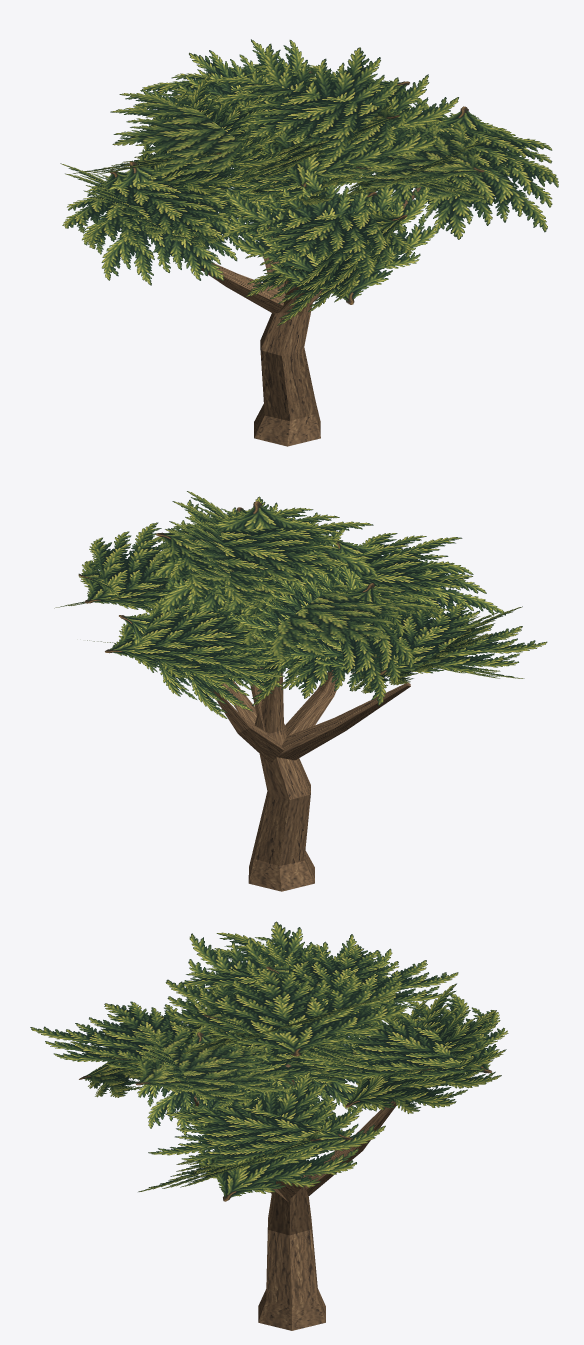
The model's file is Quercia_02_Espansa.obj.
3 views of the same model, one above another, from view 1: azimuth 30°, elevation 25°; view 2: azimuth 150°, elevation 25°; view 3: azimuth 270°, elevation 25° (orthographic).
Parts seen in each view (by area): view 1: Quercia_02_Espansa; view 2: Quercia_02_Espansa; view 3: Quercia_02_Espansa.
Part boxes in pixels (<box>): Quercia_02_Espansa: <box>60,39,558,446</box>; Quercia_02_Espansa: <box>54,491,547,891</box>; Quercia_02_Espansa: <box>30,921,508,1330</box>.
Size of the model in its own units: 8.5 by 5.59 by 8.11.
